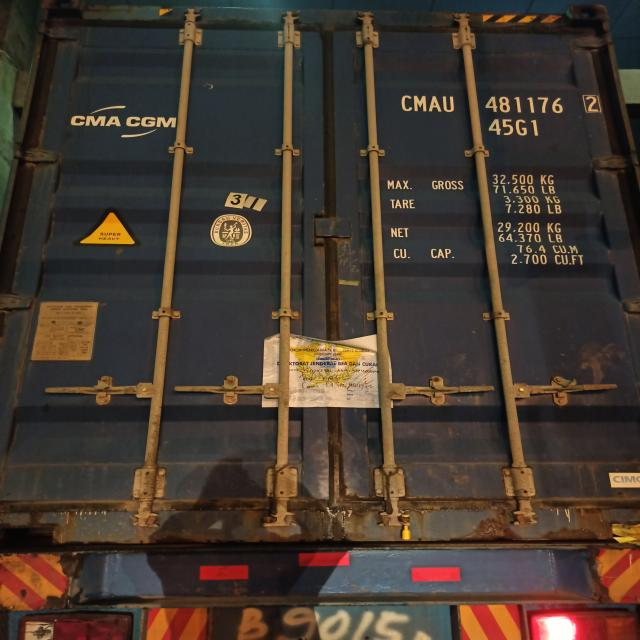seal: (400, 513, 412, 540)
